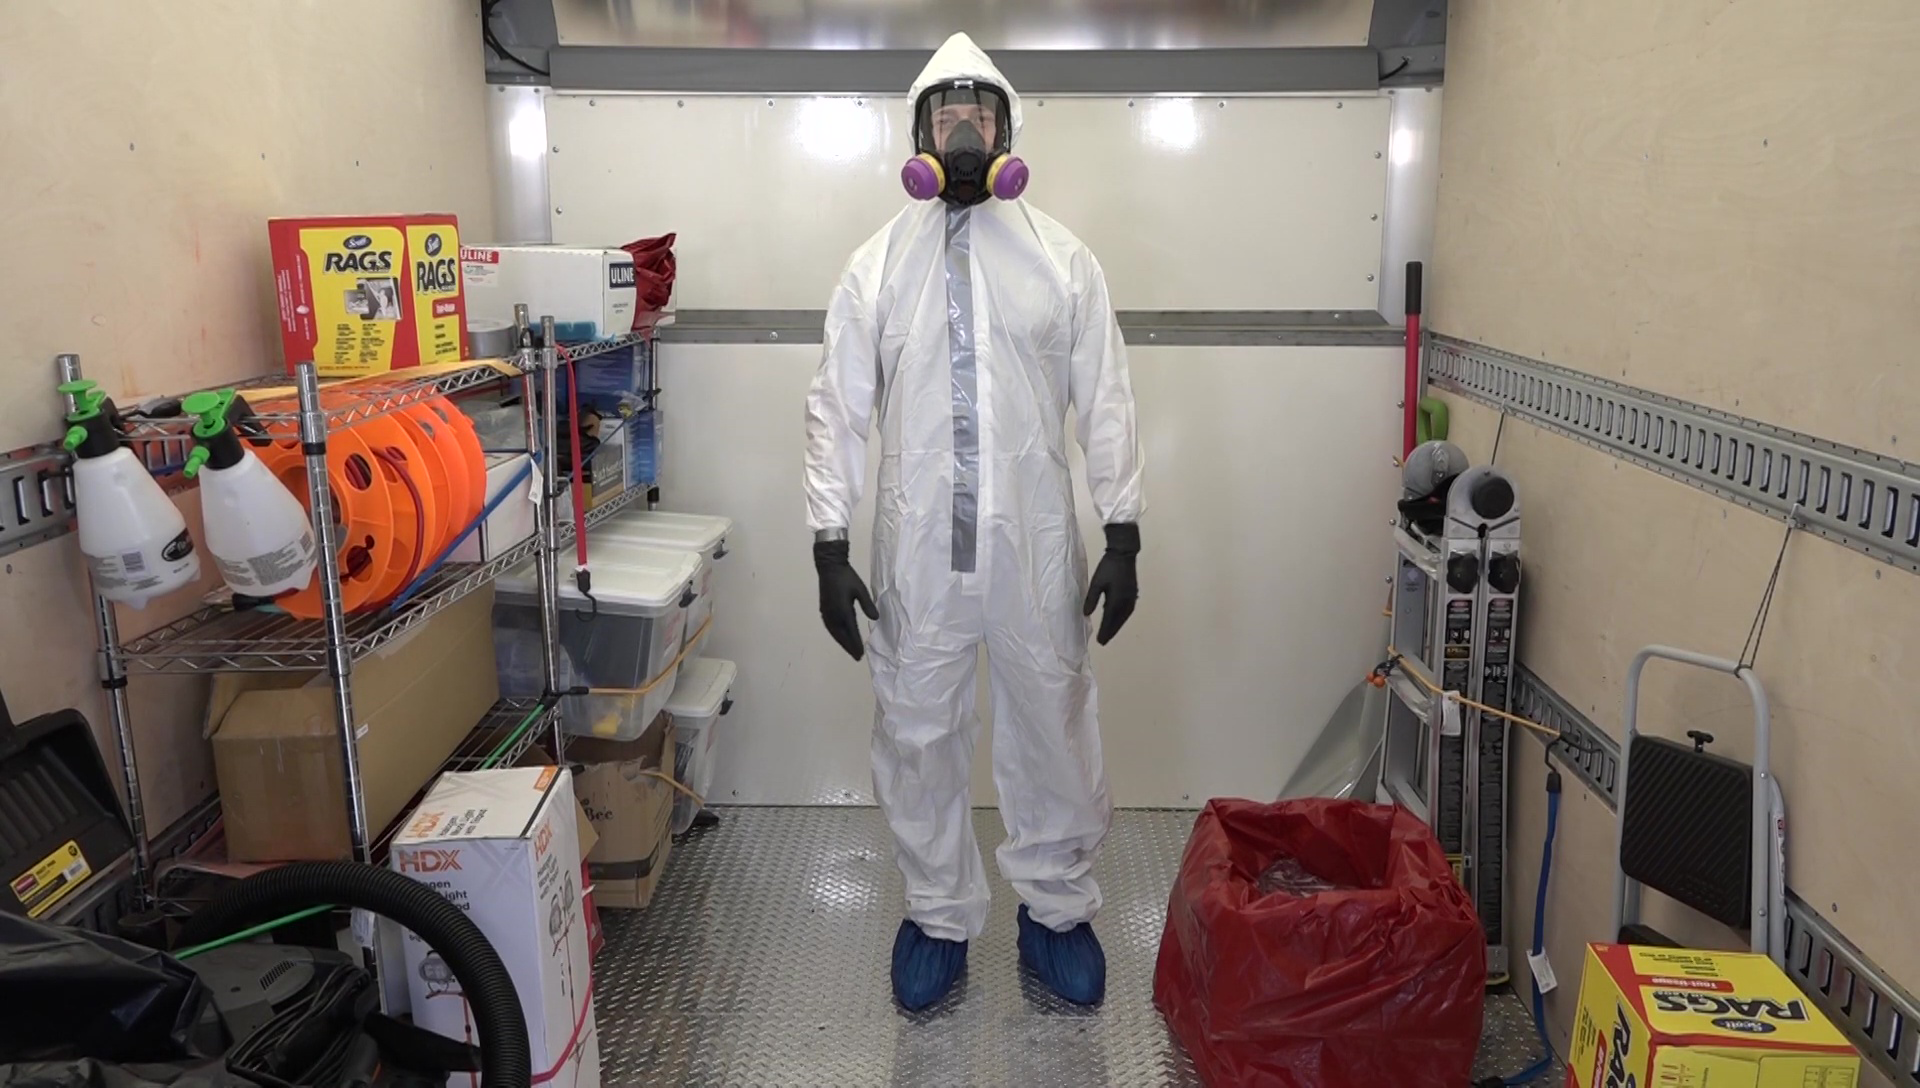Coverall: (809, 31, 1144, 1004)
Face_Shield: (910, 81, 1014, 148)
Gloves: (807, 512, 881, 664), (1079, 498, 1146, 649)
